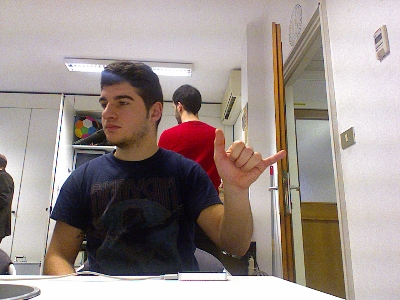六六六: (211, 127, 286, 188)
